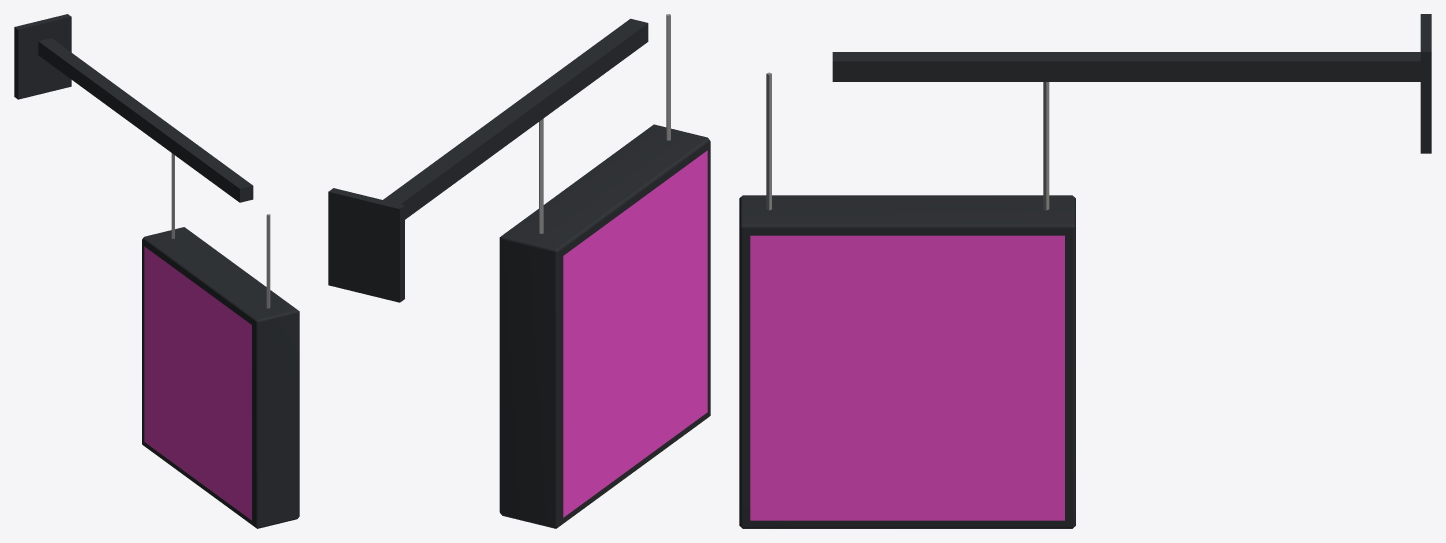
The model's file is St_HangingBox_A.fbx.
The picture shows the model from 3 angles, left to right: view 1: azimuth 30°, elevation 25°; view 2: azimuth 150°, elevation 25°; view 3: azimuth 270°, elevation 25°; orthographic projection. The views are drawn at different scales.
Parts seen in each view (by area): view 1: St_HangingBox_A_LOD0; view 2: St_HangingBox_A_LOD0; view 3: St_HangingBox_A_LOD0.
Part boxes in pixels (x1,y1,x2,y2): St_HangingBox_A_LOD0: (14, 14, 299, 528); St_HangingBox_A_LOD0: (328, 14, 710, 528); St_HangingBox_A_LOD0: (739, 14, 1431, 528).
Size of what is drawn, in the model's own units: 0.24 by 1.42 by 1.85.
